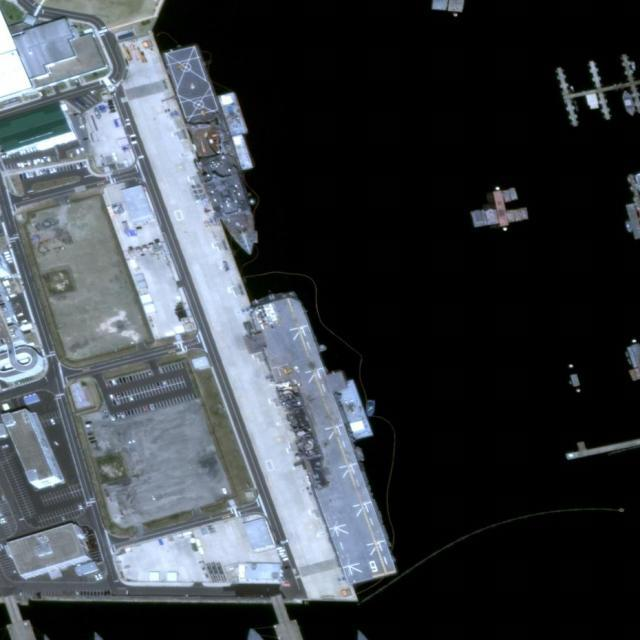Landing: (252, 290, 395, 588), (160, 39, 271, 263)
